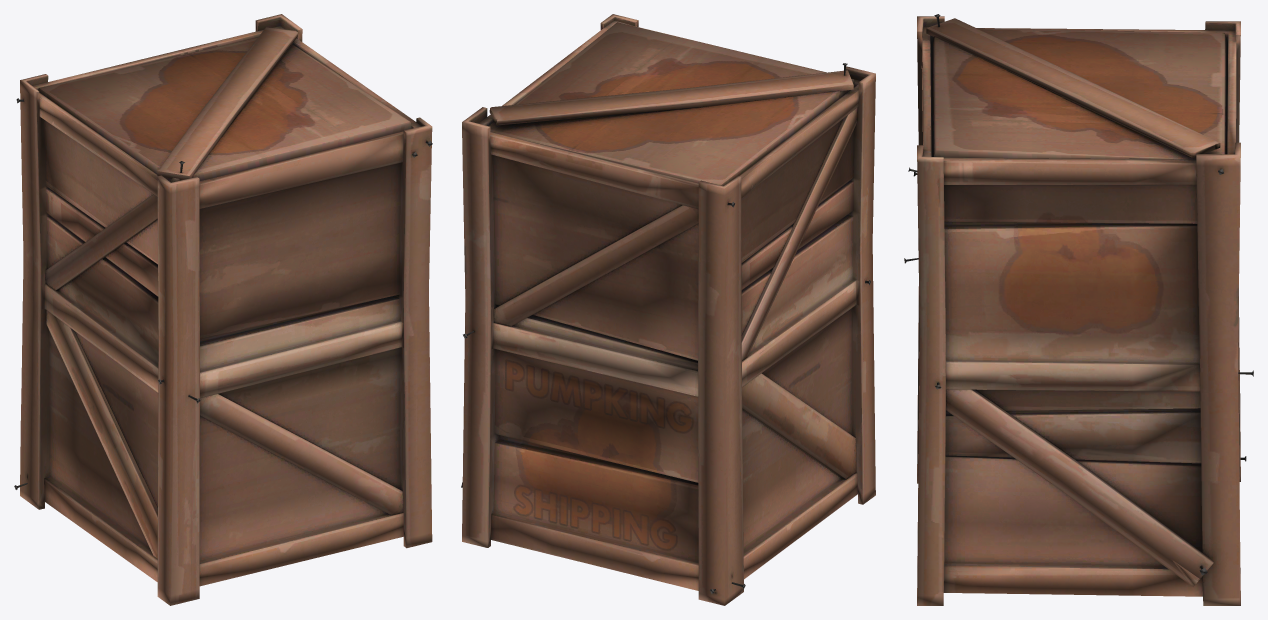
File: barrel_crate_hwn.glb
3 views of the same model, side by side, from view 1: azimuth 30°, elevation 25°; view 2: azimuth 150°, elevation 25°; view 3: azimuth 270°, elevation 25° (orthographic). The views are drawn at different scales.
Parts seen in each view (by area): view 1: barrel_crate_hwn; view 2: barrel_crate_hwn; view 3: barrel_crate_hwn.
Boxes of the visible parts, x1,y1,x2,y2 form: barrel_crate_hwn: (14,14,432,605); barrel_crate_hwn: (461,14,875,605); barrel_crate_hwn: (904,14,1253,605).
Size of the model in its own units: 1.57 by 2.22 by 1.52.
Materials: 1 (1 with a texture image).
